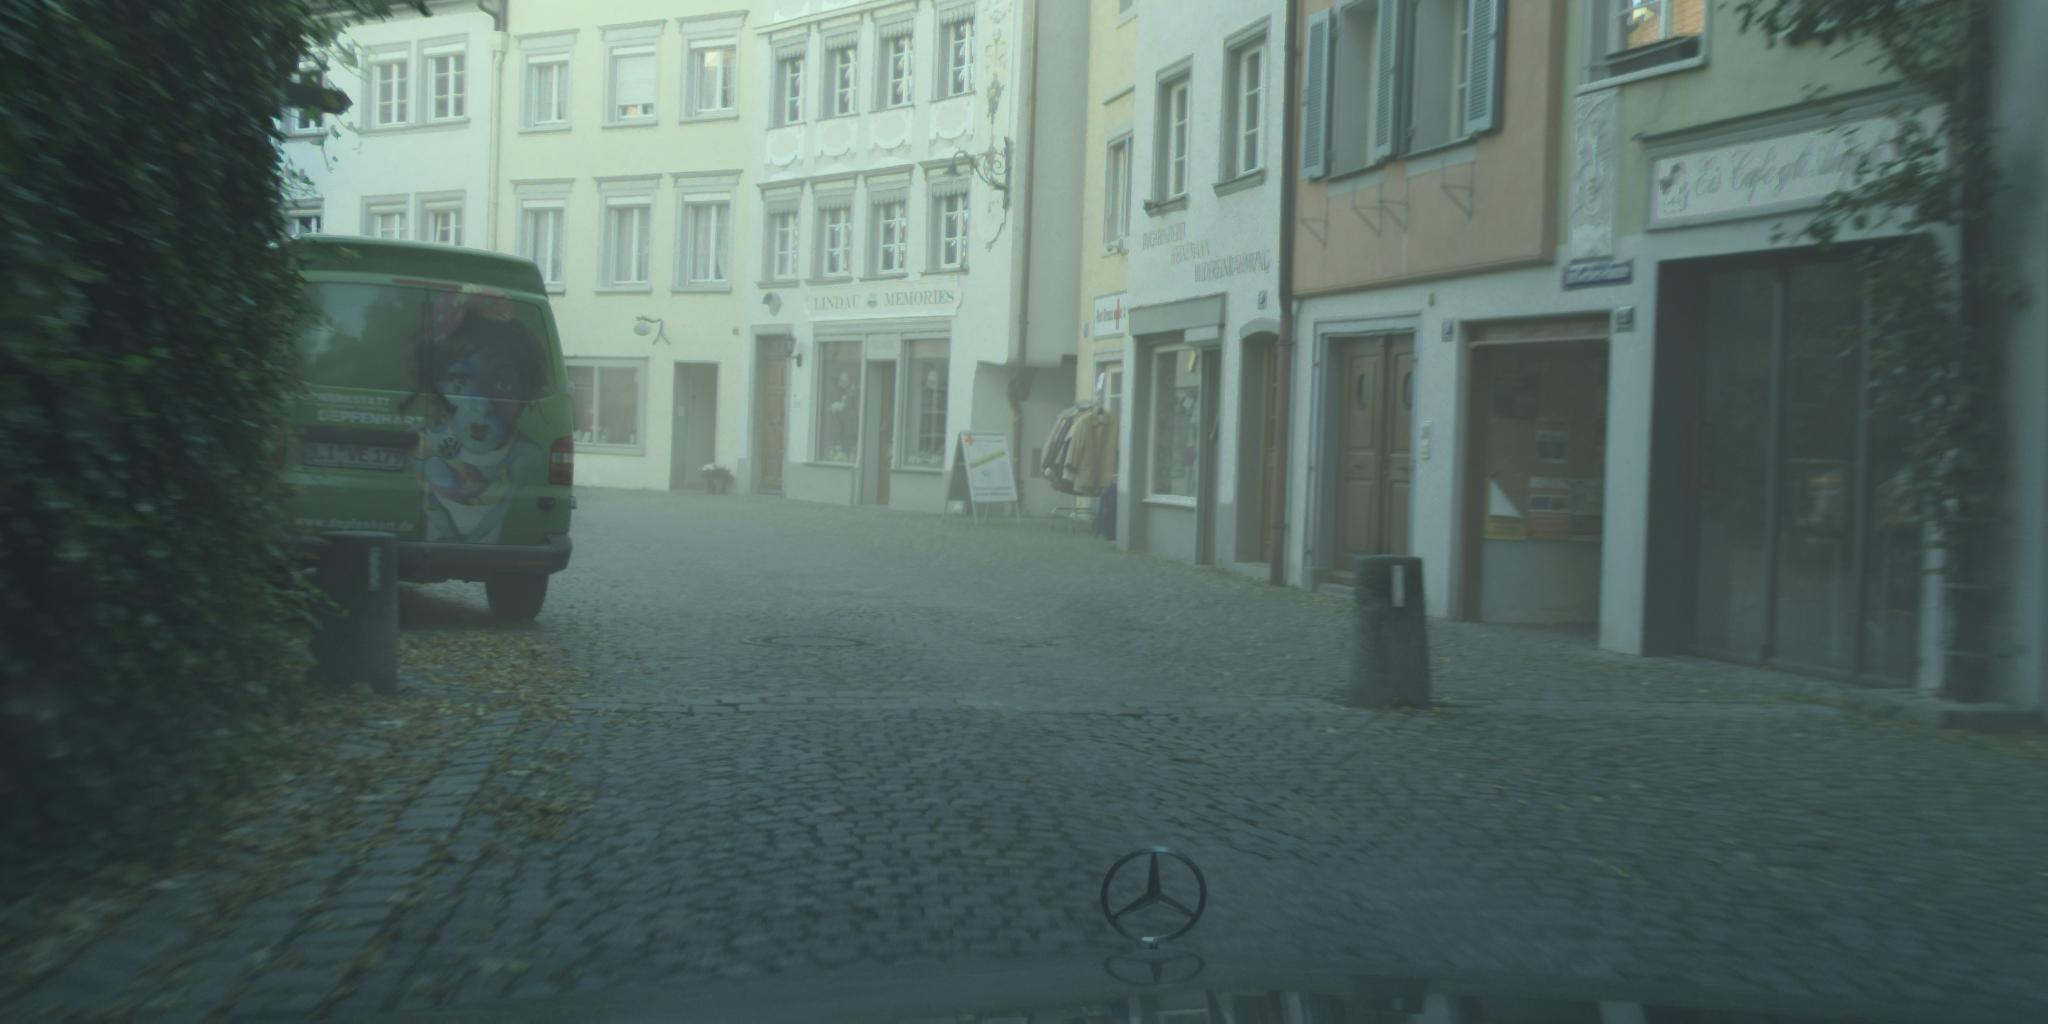car: (280, 235, 577, 623)
